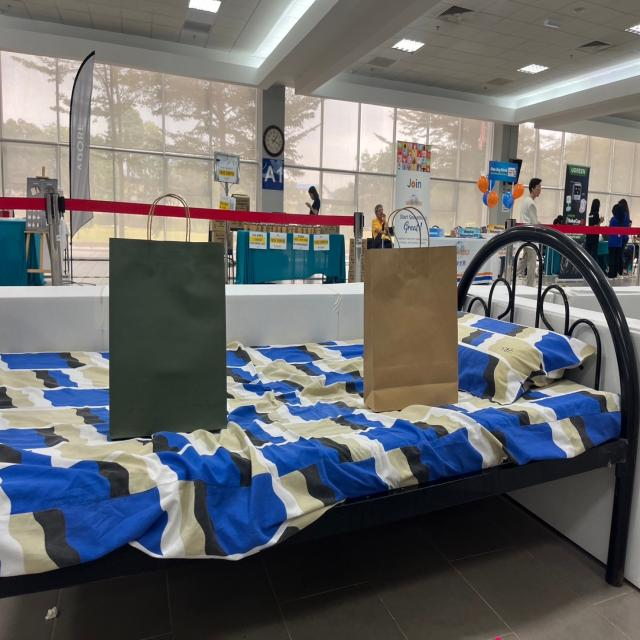bag: (113, 186, 222, 427), (360, 195, 455, 410)
